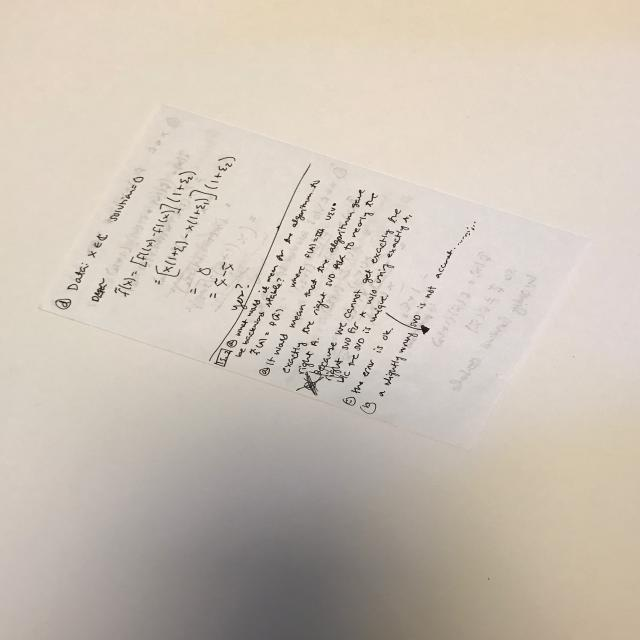paper: (30, 95, 600, 456)
